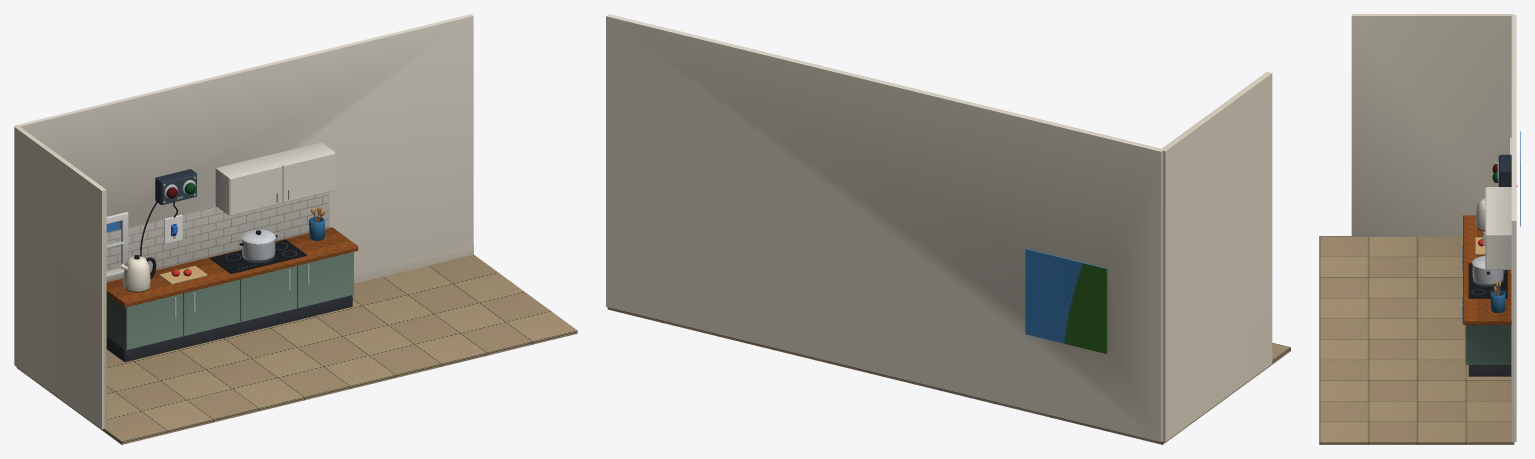
Rendered from too-hot-kitchen.glb.
The picture shows the model from 3 angles, left to right: view 1: azimuth 30°, elevation 25°; view 2: azimuth 150°, elevation 25°; view 3: azimuth 270°, elevation 25°; orthographic projection. The views are drawn at different scales.
Visible parts, largest first — view 1: Room, Pot; view 2: Room; view 3: Room, Pot.
Boxes of the visible parts, x1,y1,x2,y2 form: Room: (14,14,577,444); Pot: (239,229,277,261); Room: (606,14,1290,444); Room: (1319,14,1520,444); Pot: (1472,255,1503,285).
Bounding box in the file's own units: 3.01 × 1.52 × 1.24.
Materials: 42 (4 with a texture image).
